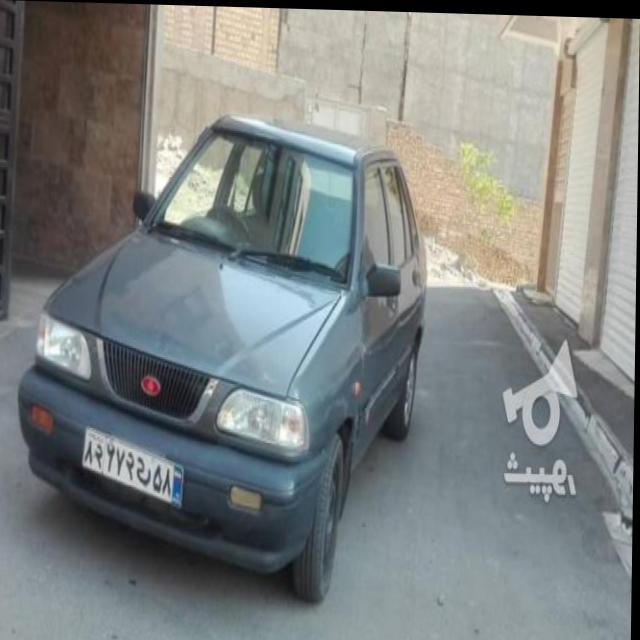licence: (83, 421, 190, 504)
